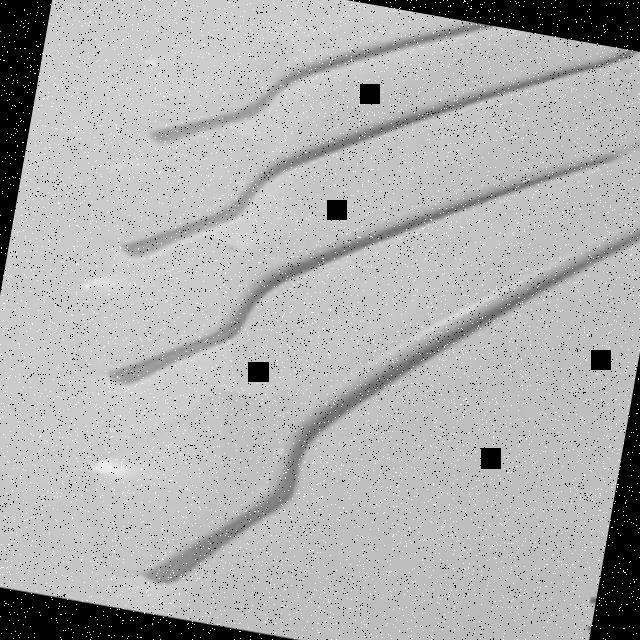plastic_spoon: (27, 0, 640, 640)
